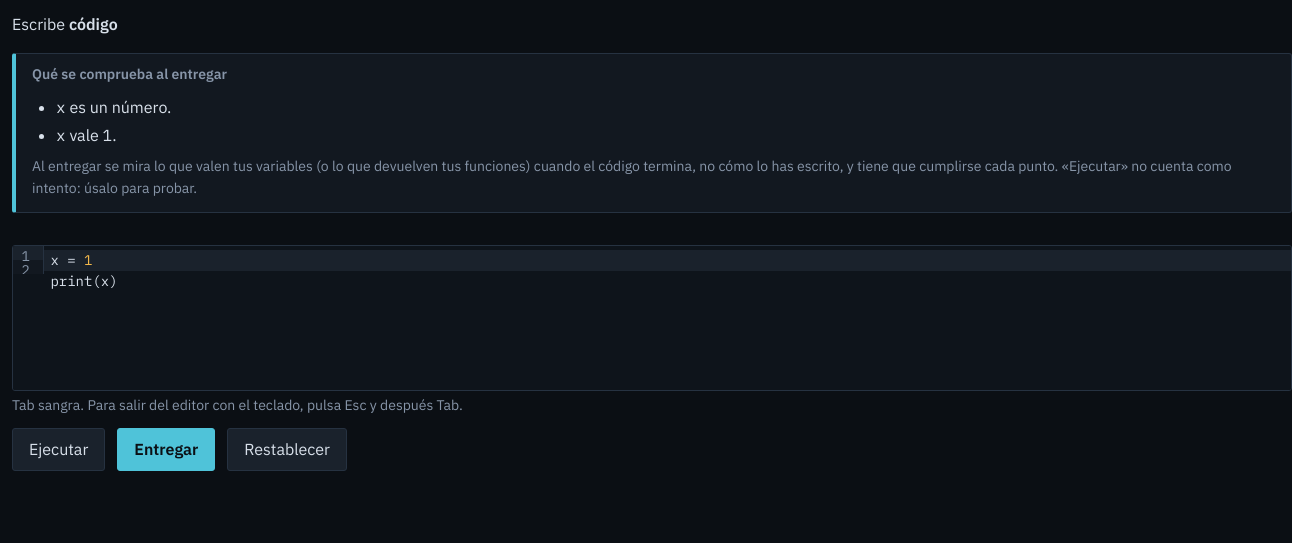
Test: CodigoQuestion: ejecutar y entregar › un plazo agotado al entregar muestra el mensaje y cuenta como incorrecta
Click the button "Entregar" at (166,450), box [117, 428, 215, 471]
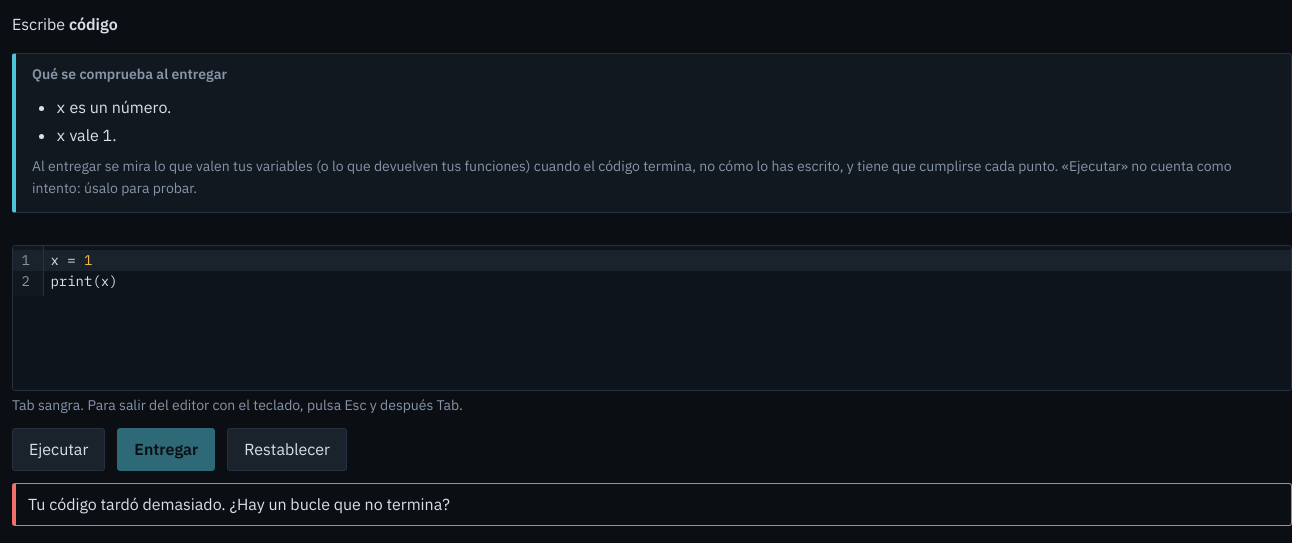
Now the text "Tu código tardó demasiado. ¿Hay un bucle que no termina?" is shown, box [12, 483, 1291, 526]
